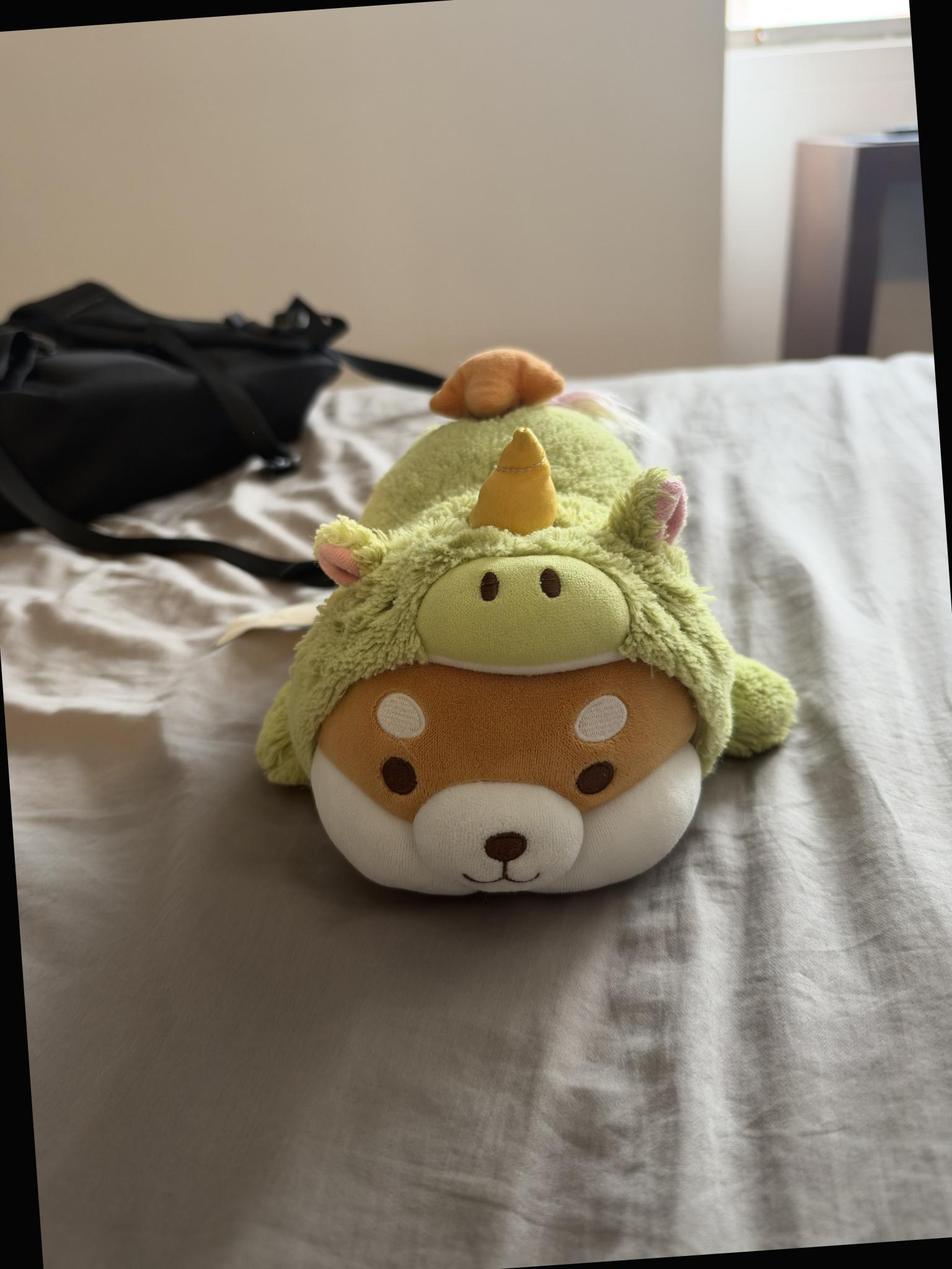peluche_martin: (225, 327, 812, 919)
